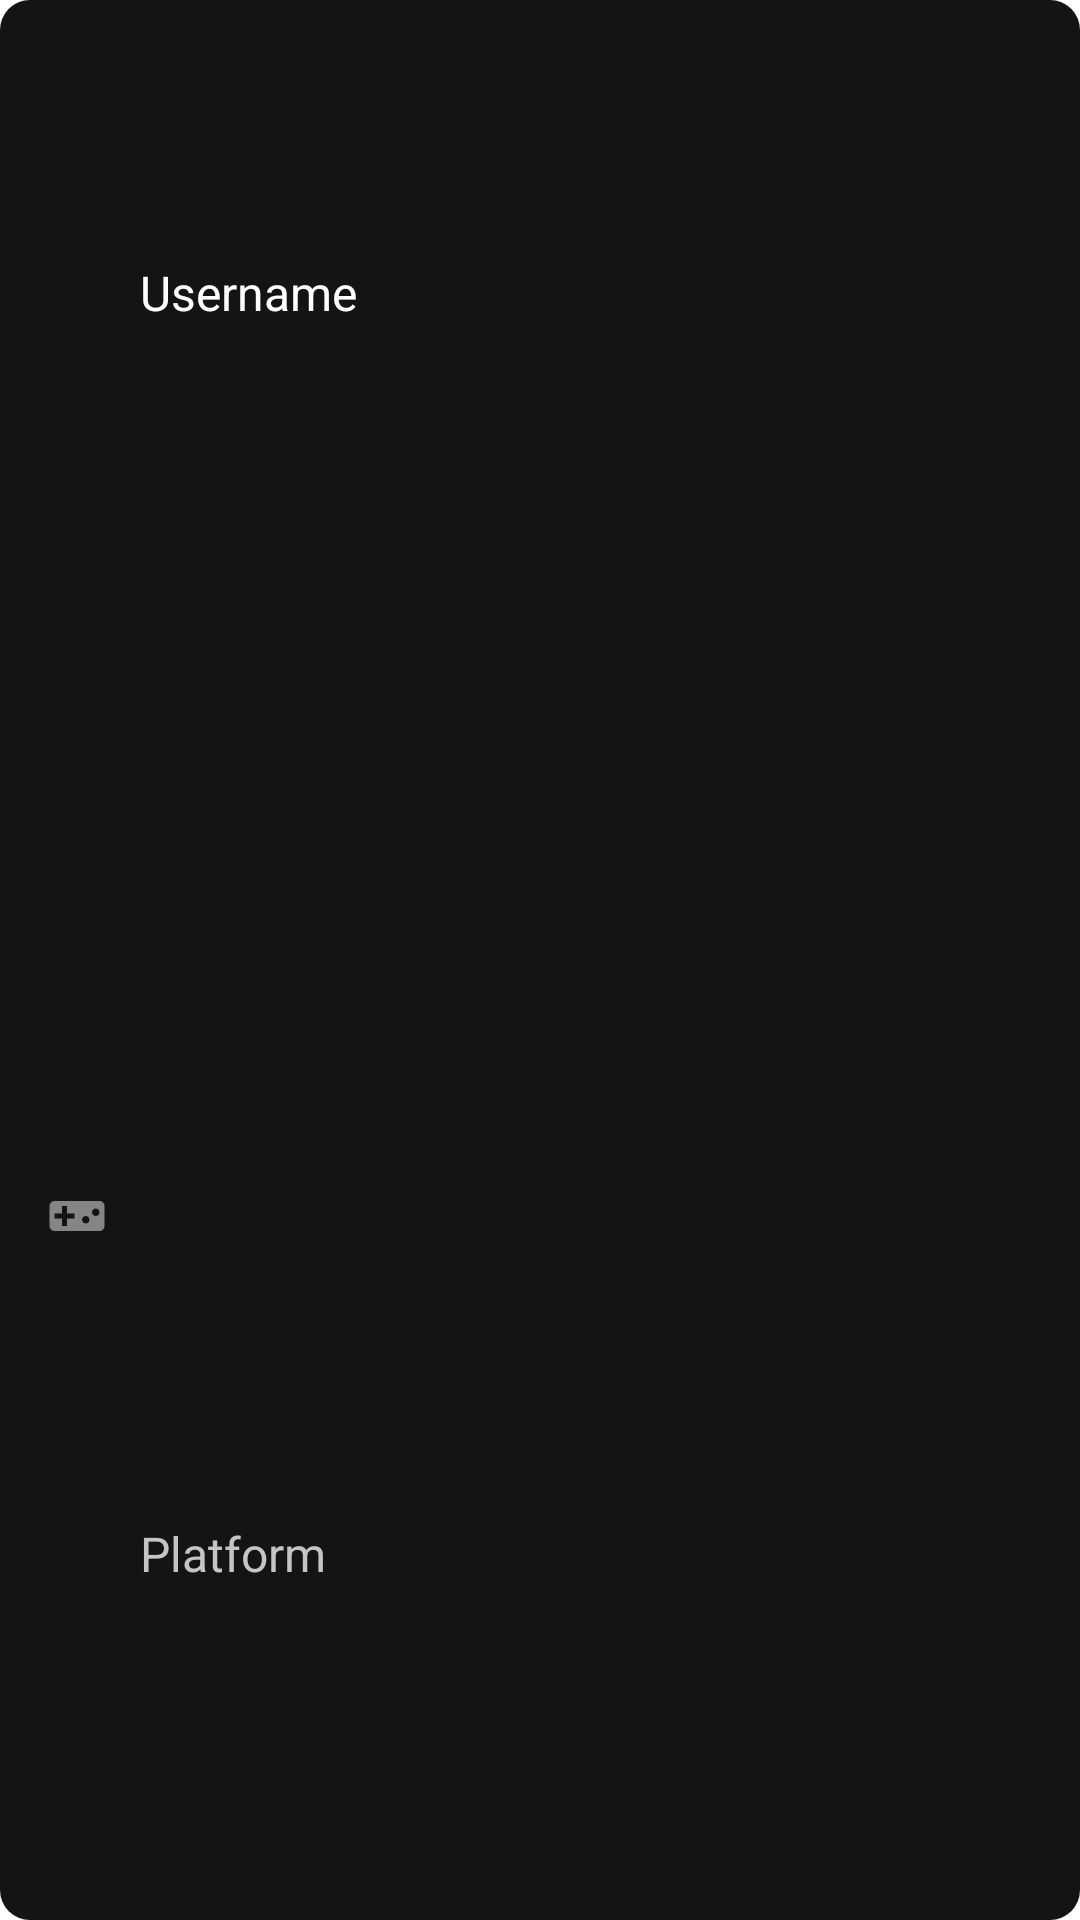

Where icons sit on this 1080*1920 app screen, as (x1, y1, x2, y2):
videogame: (49, 1201, 105, 1231)
